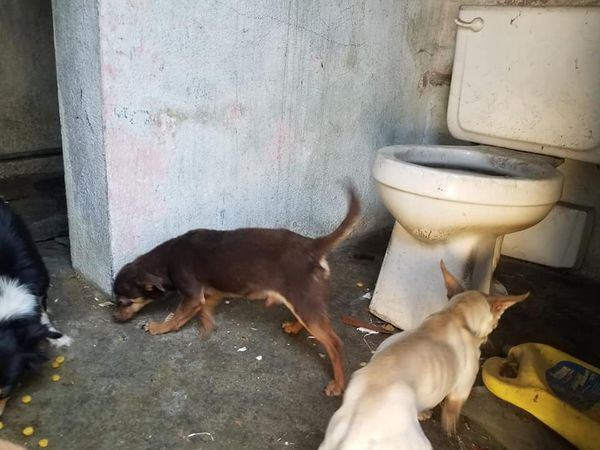dog: (97, 175, 360, 390), (320, 272, 542, 450)
